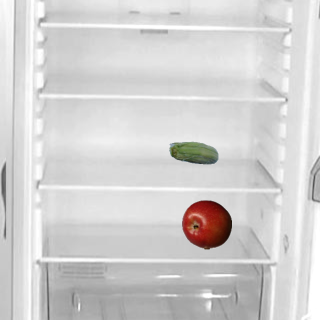Apple Braeburn: (181, 199, 231, 249)
Corn Husk: (168, 129, 218, 179)
